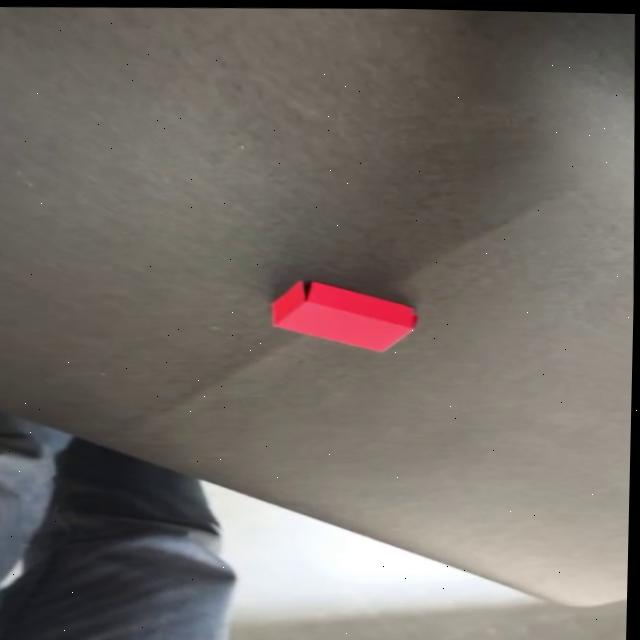red block: (268, 276, 420, 355)
